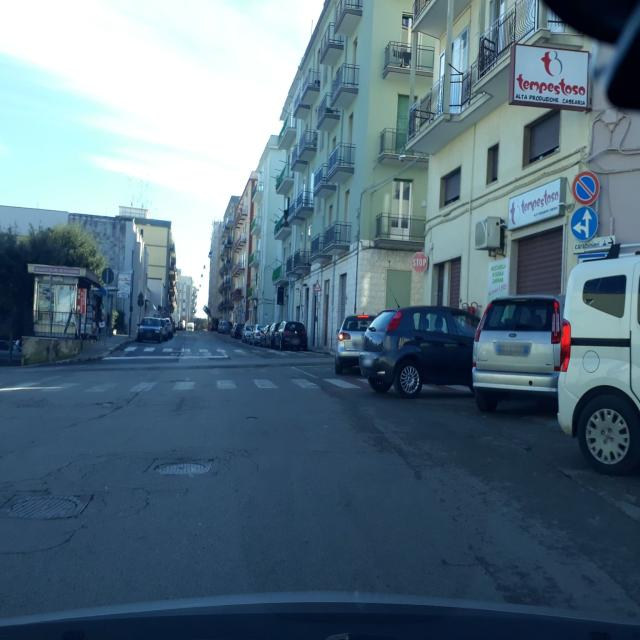car: (556, 235, 640, 480), (359, 304, 480, 399), (470, 293, 562, 413), (333, 312, 377, 375), (275, 320, 308, 351), (136, 316, 164, 343), (267, 322, 281, 348), (250, 324, 266, 345), (162, 317, 175, 336), (241, 323, 254, 342), (232, 322, 245, 338), (217, 320, 228, 333), (209, 318, 219, 332)
